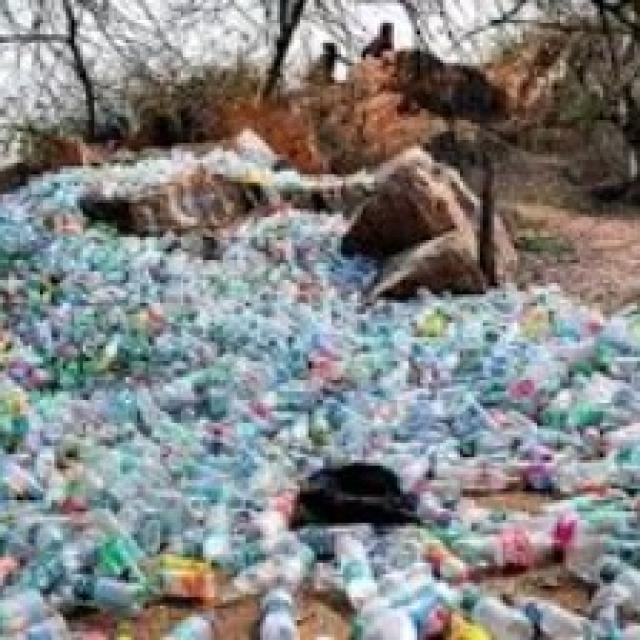heap: (21, 250, 477, 494), (86, 313, 268, 421)
plastic_bottle: (59, 563, 153, 624), (368, 577, 454, 640), (536, 593, 592, 640)
